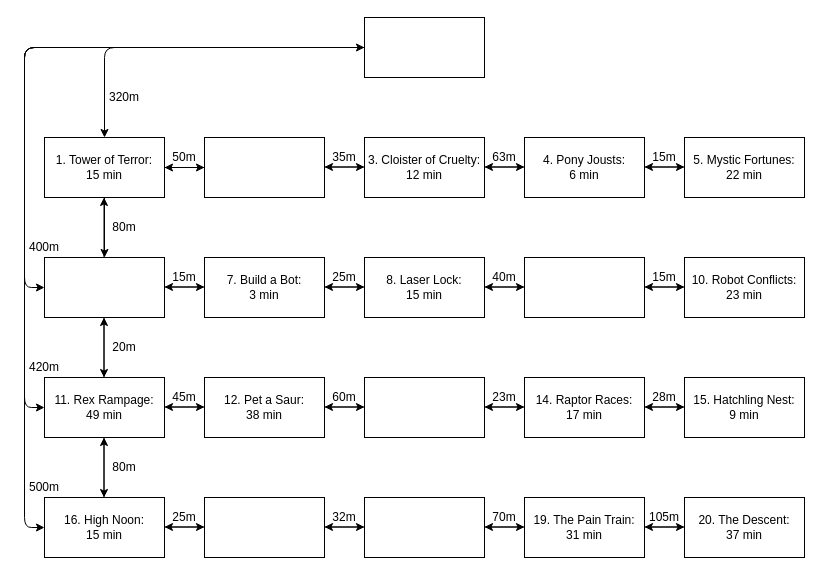
This 822x575 diagram has some shape labels left out. The centre of each missing label's shape, as x and y in pixels:
0. Entrance/Exit: [424,47]
13. Sauro Pods: 6 min: [424,407]
17. Hall O Mirrors: 40 min: [264,527]
18. Steampunk Cups: 16 min: [424,527]
2. The Iron Jaws: 5 min: [264,167]
6. Crisis at Farpoint: 35 min: [104,287]
9. Trench Chase: 21 min: [584,287]
